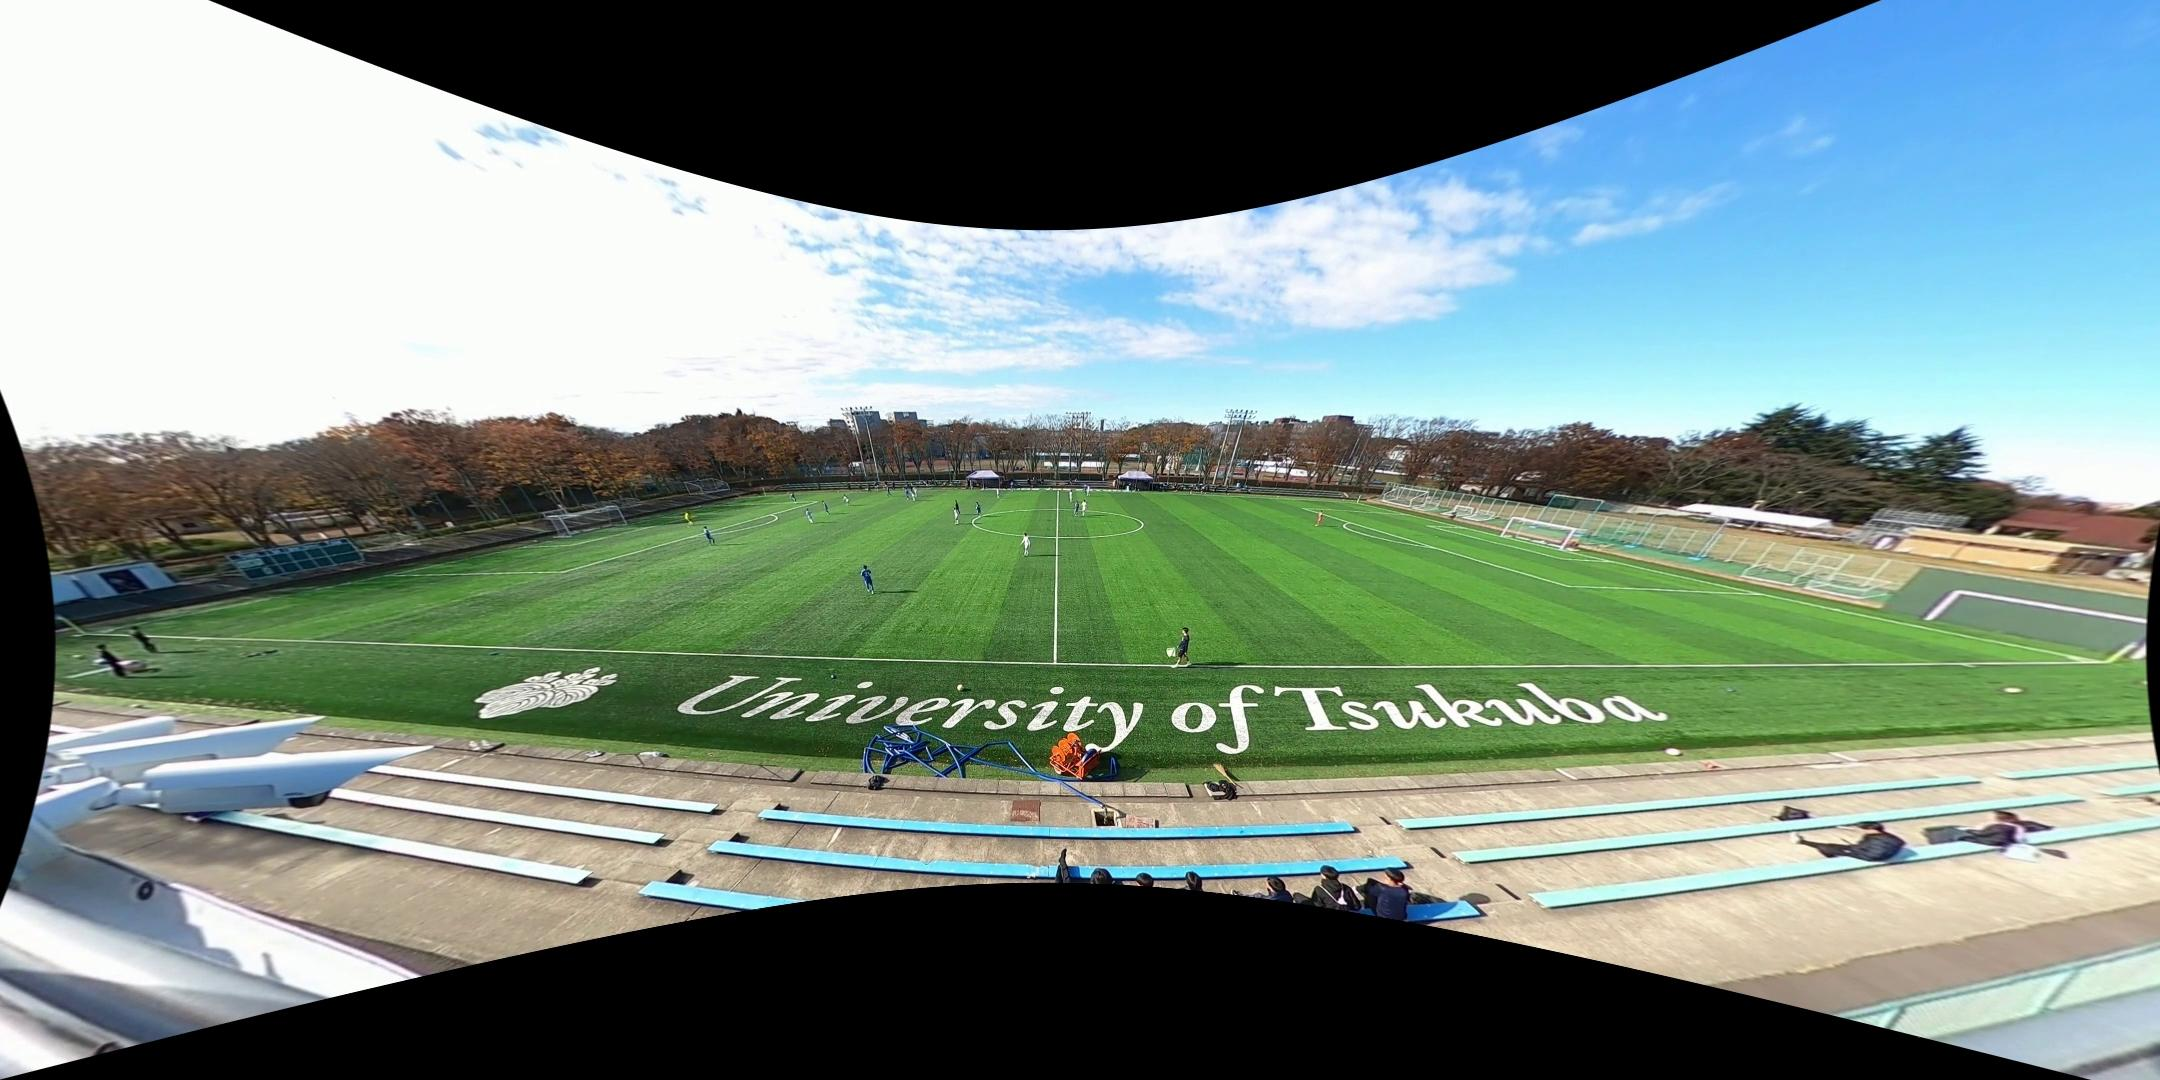person: (1173, 627, 1194, 669), (860, 564, 876, 594), (1020, 531, 1032, 556), (704, 525, 715, 548), (684, 511, 695, 528), (1314, 509, 1324, 527), (952, 506, 960, 526), (1080, 499, 1089, 516), (902, 486, 912, 500), (953, 500, 961, 517), (822, 500, 830, 517), (884, 483, 893, 498), (909, 485, 918, 500), (805, 508, 814, 523), (907, 488, 916, 502), (843, 494, 851, 507), (1074, 500, 1080, 517), (976, 501, 982, 517), (790, 492, 798, 504), (1009, 480, 1016, 493), (996, 488, 1002, 500), (1087, 484, 1092, 497), (1068, 490, 1073, 503), (1083, 483, 1088, 495)
sports ball: (2001, 683, 2025, 697), (1663, 744, 1681, 759), (956, 683, 967, 693)
